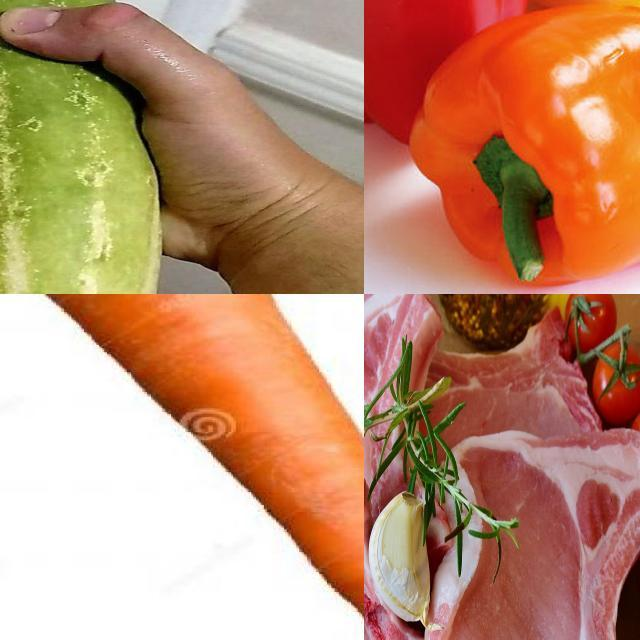bell_pepper: (414, 6, 640, 288), (365, 1, 530, 135)
carrot: (1, 295, 365, 640)
cucumber: (1, 1, 169, 295)
garlic: (369, 493, 433, 631)
tomato: (593, 338, 640, 425), (565, 295, 616, 353)
